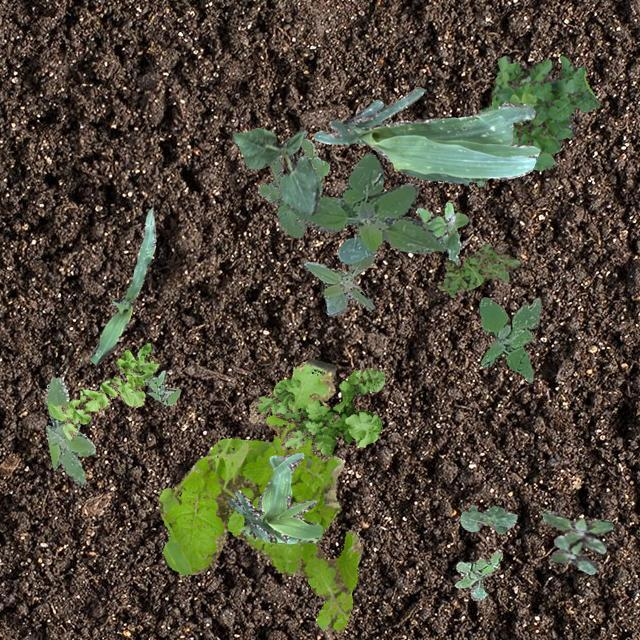crop: (312, 86, 538, 182), (90, 206, 154, 364), (226, 451, 322, 544), (232, 126, 318, 215), (458, 504, 516, 532)
weed: (158, 358, 362, 632), (284, 152, 446, 262), (488, 52, 598, 170), (248, 366, 384, 459), (46, 342, 158, 440), (256, 138, 328, 236), (44, 376, 94, 484), (478, 296, 540, 381), (302, 250, 376, 314), (542, 509, 612, 574), (436, 242, 520, 296), (416, 200, 466, 264), (454, 548, 502, 600), (143, 370, 180, 404), (476, 106, 490, 186)
